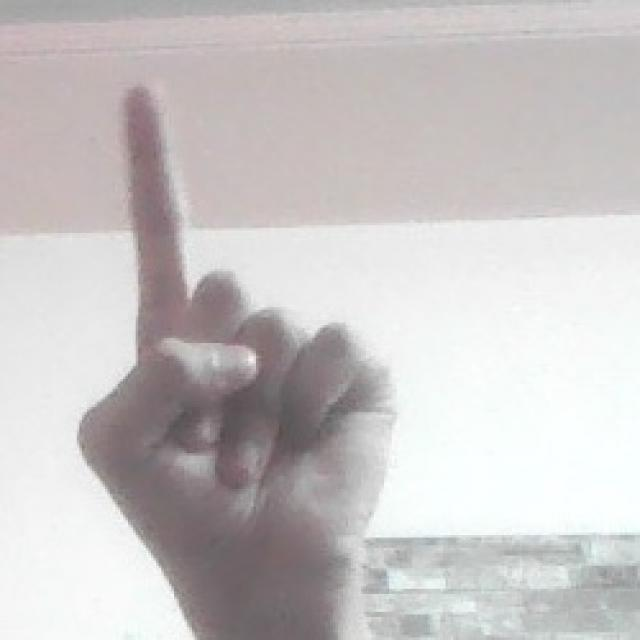Numeric-1: (76, 85, 394, 559)
